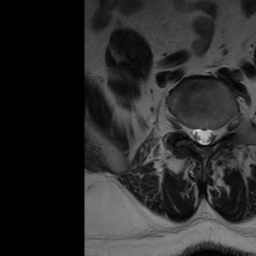CCS_stenosis: (200, 119, 207, 152)
LFS_normal: (216, 121, 223, 145)
LLS_normal: (207, 121, 215, 149)
RFS_normal: (182, 119, 193, 143)
RLS_normal: (192, 121, 200, 147)
